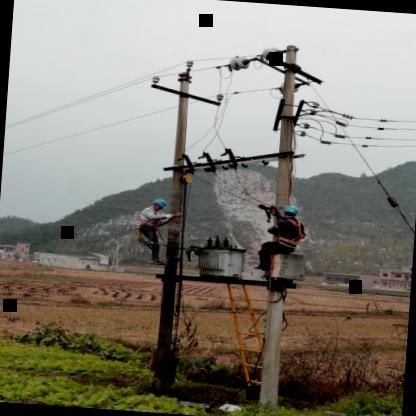helmet: (144, 196, 170, 215), (280, 202, 304, 220)
